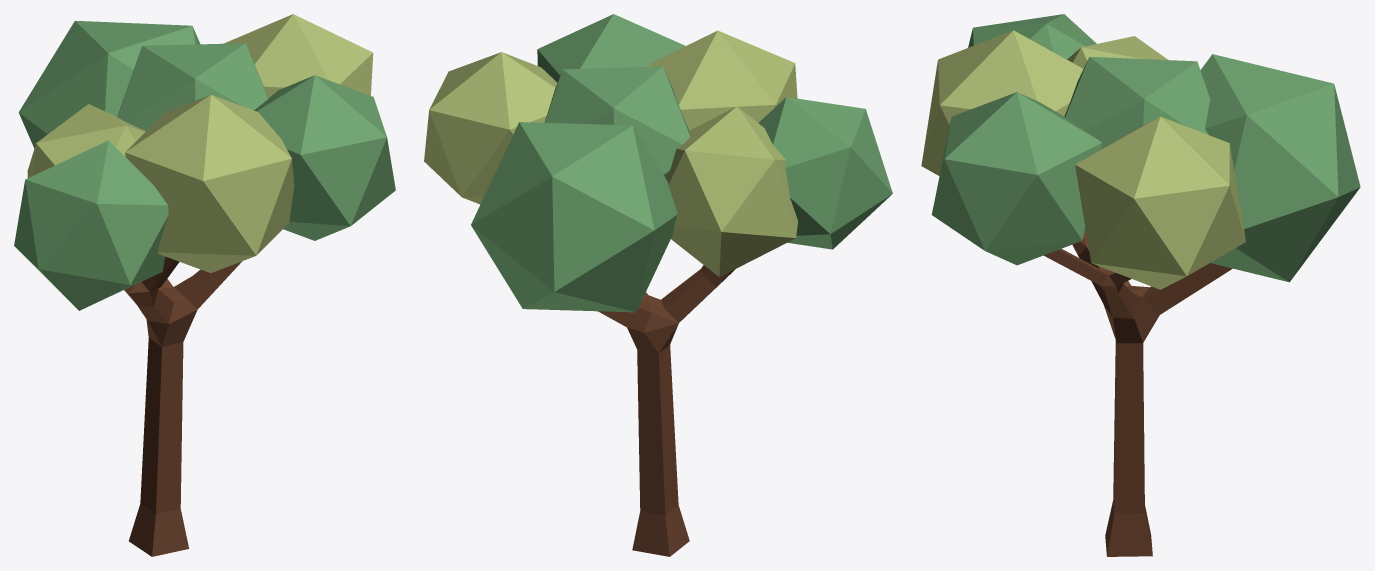
File: Tree_01.fbx
The picture shows the model from 3 angles, left to right: view 1: azimuth 30°, elevation 25°; view 2: azimuth 150°, elevation 25°; view 3: azimuth 270°, elevation 25°; orthographic projection. The views are drawn at different scales.
Parts seen in each view (by area): view 1: Leafs_01, Tree_01; view 2: Leafs_01, Tree_01; view 3: Leafs_01, Tree_01.
Boxes of the visible parts, <box> form: Leafs_01: <box>14,14,395,310</box>; Tree_01: <box>124,256,241,556</box>; Leafs_01: <box>424,14,892,312</box>; Tree_01: <box>598,265,735,556</box>; Leafs_01: <box>921,14,1360,289</box>; Tree_01: <box>1044,231,1232,556</box>.
Bounding box in the file's own units: 781 × 927 × 716.
